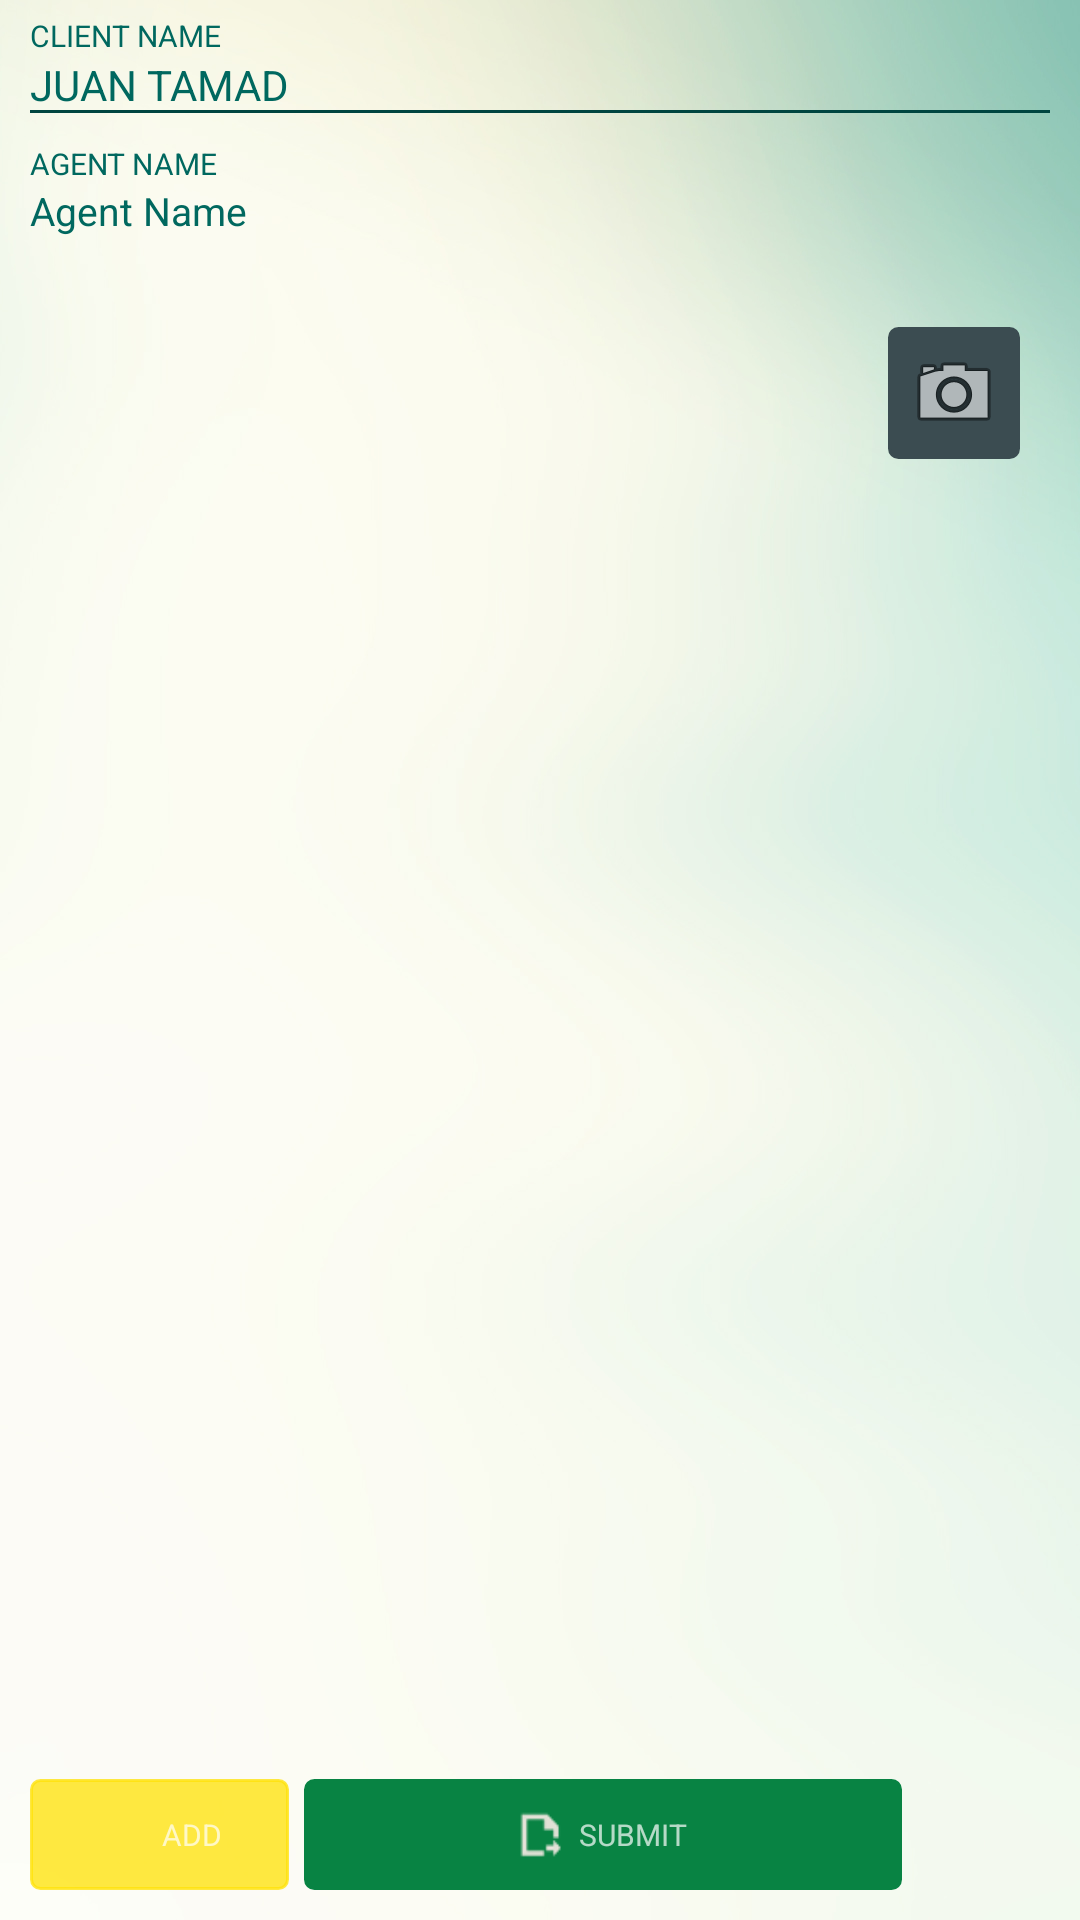

Named icons in this screenshot (1080x1920) and their centers, [x,y]:
camera: [954,391]
